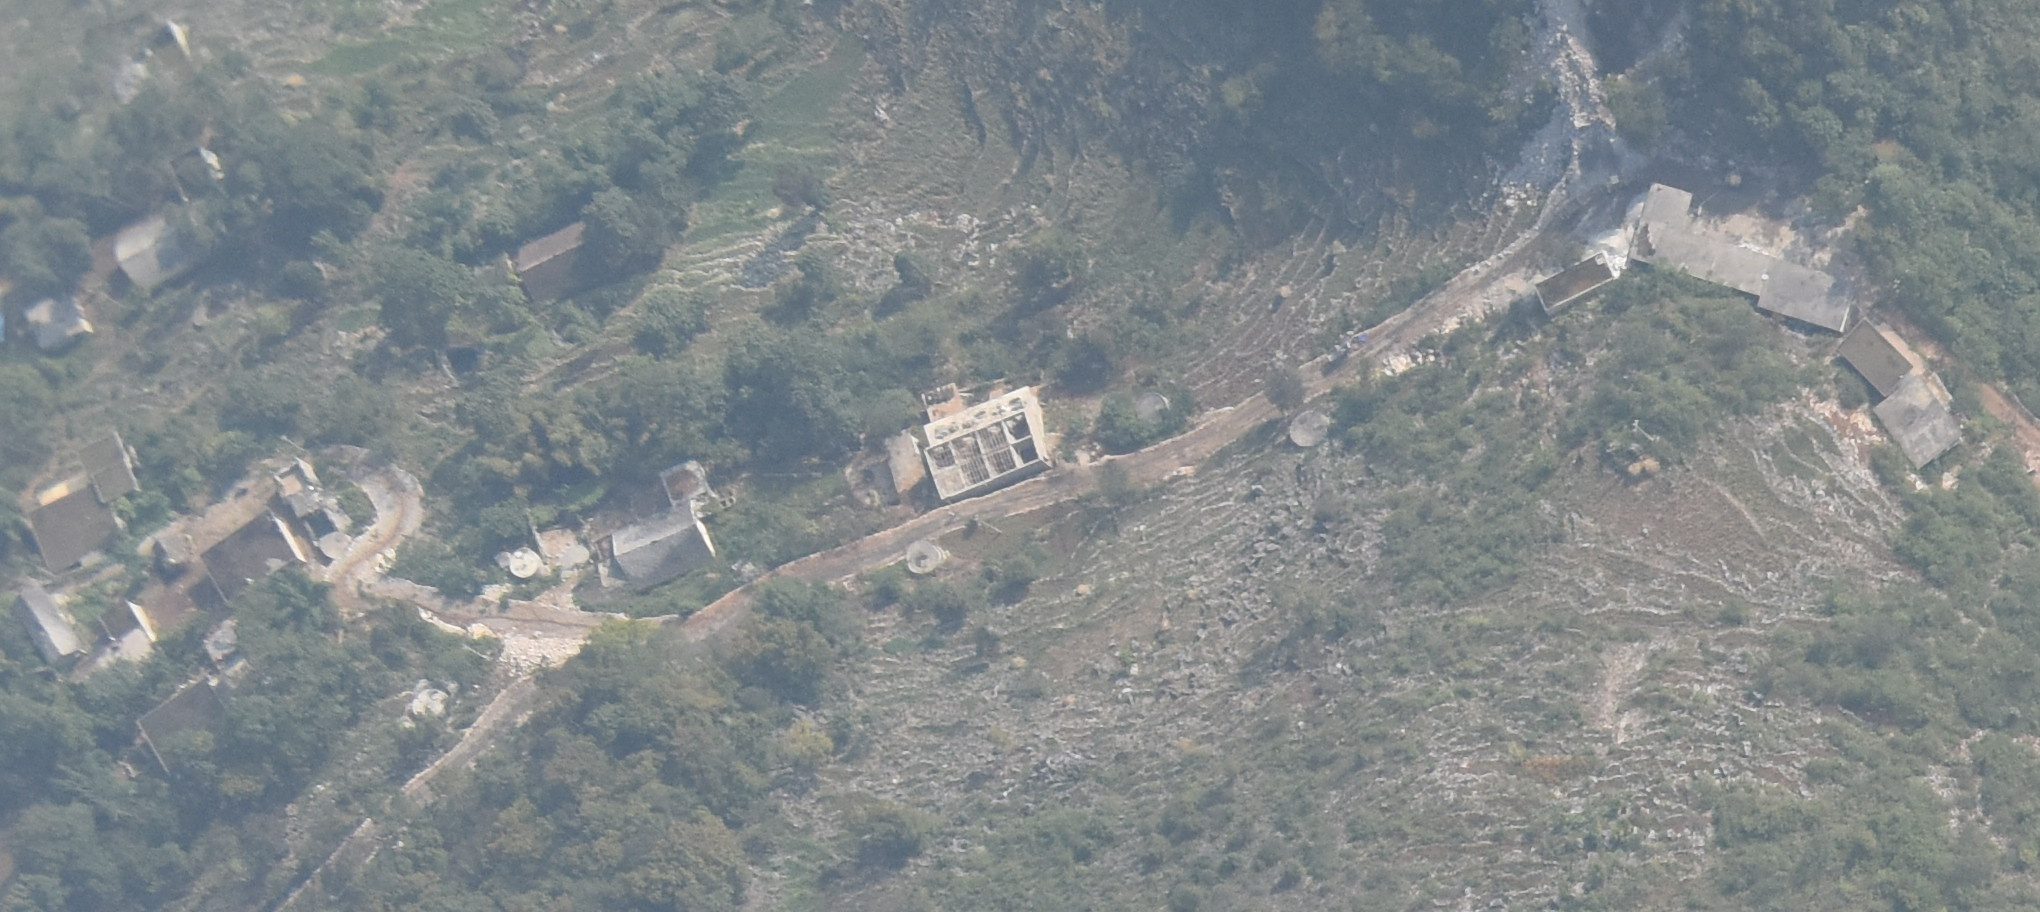building: (1625, 172, 1848, 335), (920, 379, 1063, 506), (25, 432, 155, 569), (123, 674, 254, 776), (505, 210, 635, 297), (603, 501, 725, 591), (196, 509, 305, 600), (114, 204, 220, 293), (1870, 373, 1964, 471), (1833, 316, 1918, 396), (10, 581, 83, 674), (1525, 247, 1618, 313), (21, 292, 95, 354), (96, 598, 161, 661), (882, 431, 925, 499)
quarry: (1509, 7, 1652, 165)
well: (1288, 402, 1335, 451), (1127, 388, 1173, 430), (408, 685, 451, 725), (905, 537, 946, 575), (510, 542, 542, 580)
